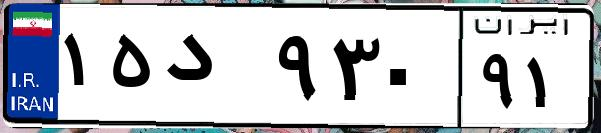0: (385, 28, 445, 110)
1: (57, 26, 110, 100), (525, 38, 570, 115)
3: (330, 28, 385, 110)
5: (110, 28, 158, 98)
9: (270, 28, 330, 110), (475, 38, 525, 113)
د: (158, 20, 270, 120)
